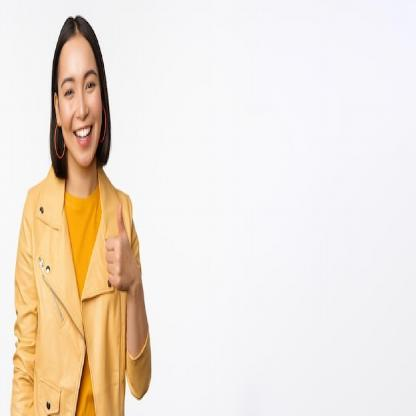thumb_up: (103, 197, 135, 293)
